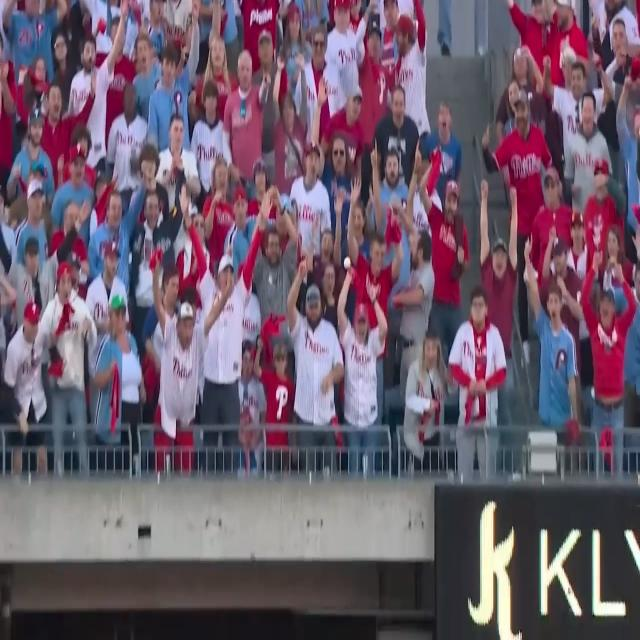baseball: (343, 256, 352, 271)
